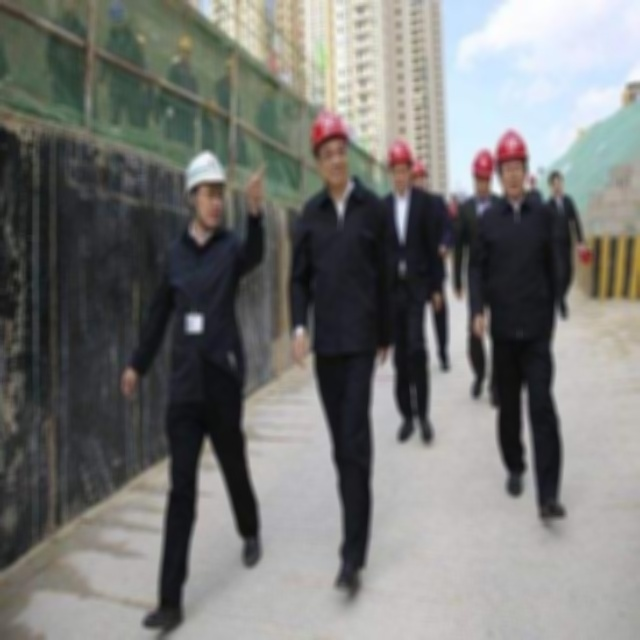Con_Casco: (186, 150, 229, 226), (310, 107, 351, 181)
